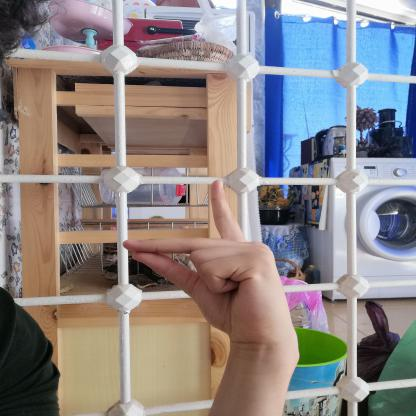TAA: (113, 173, 305, 351)
